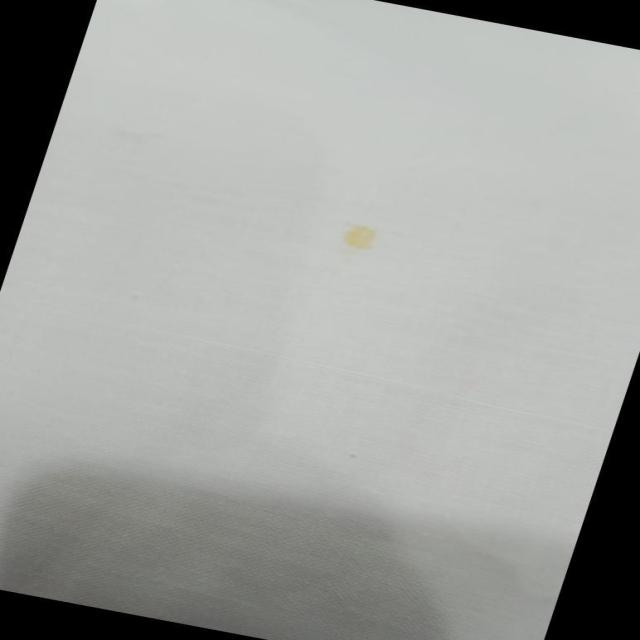stain: (322, 212, 406, 266)
